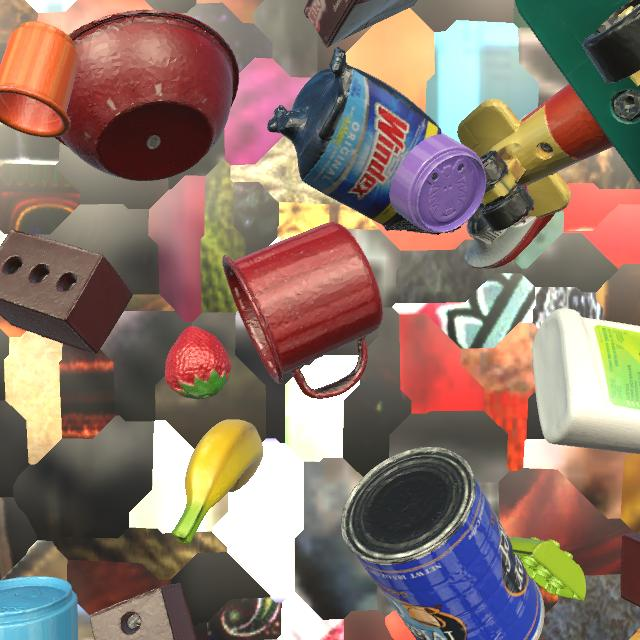ycb_002_master_chef_can: (341, 447, 545, 640)
ycb_008_pudding_box: (303, 0, 418, 48)
ycb_011_banana: (172, 419, 264, 544)
ycb_012_strawberry: (165, 326, 232, 400)
